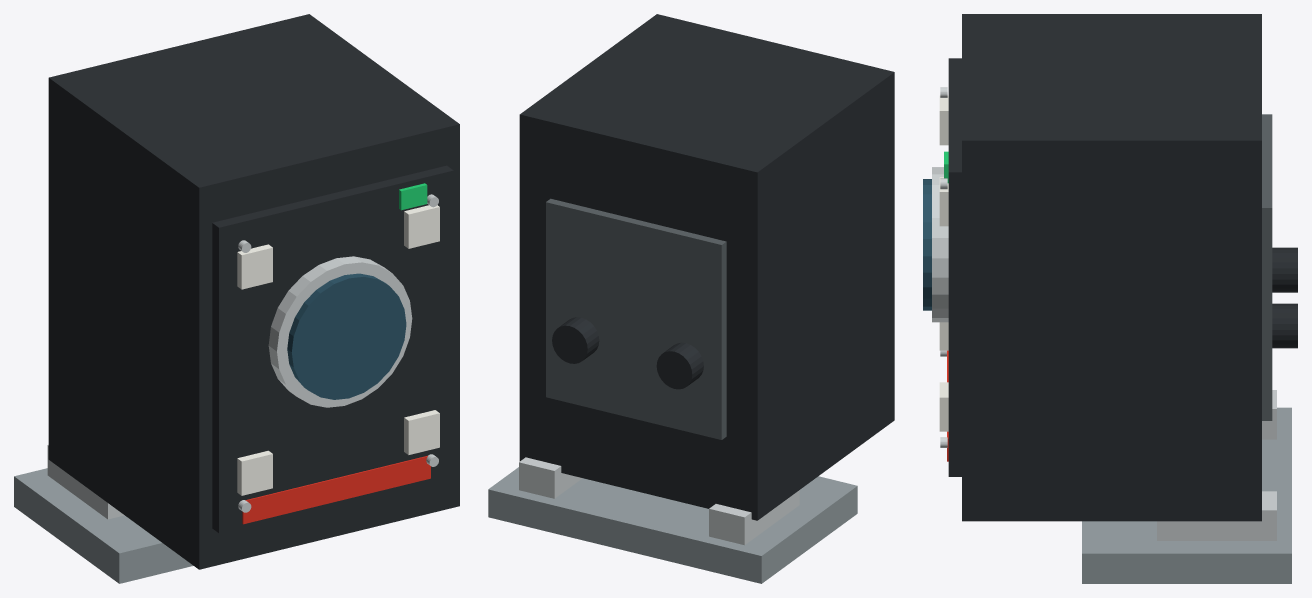
3 views of the same model, side by side, from view 1: azimuth 30°, elevation 25°; view 2: azimuth 150°, elevation 25°; view 3: azimuth 270°, elevation 25° (orthographic). The views are drawn at different scales.
Visible parts, largest first — view 1: housing, front bezel, optical lens, Mount bracket, lens surround, red identification stripe, illumination emitter, illumination emitter.002, illumination emitter.003, illumination emitter.001, mounting flange, status indicator; view 2: housing, Rear connector plate, Mount bracket, mounting flange, mounting flange.001, Electrical connector.001, Electrical connector; view 3: housing, Mount bracket, front bezel, Rear connector plate, mounting flange.001, lens surround, Electrical connector, Electrical connector.001, optical lens, illumination emitter.002, illumination emitter.001.
Part boxes in pixels (left/top/right/bottom): housing: left=48, top=14, right=459, bottom=569; front bezel: left=212, top=165, right=453, bottom=533; optical lens: left=287, top=273, right=406, bottom=399; Mount bracket: left=14, top=468, right=193, bottom=583; lens surround: left=268, top=256, right=412, bottom=407; red identification stripe: left=242, top=455, right=430, bottom=524; illumination emitter: left=237, top=450, right=272, bottom=495; illumination emitter.002: left=404, top=410, right=439, bottom=454; illumination emitter.003: left=404, top=205, right=439, bottom=248; illumination emitter.001: left=237, top=244, right=272, bottom=289; mounting flange: left=47, top=444, right=124, bottom=519; status indicator: left=399, top=183, right=427, bottom=210; housing: left=519, top=14, right=894, bottom=520; Rear connector plate: left=546, top=198, right=726, bottom=439; Mount bracket: left=488, top=467, right=857, bottom=583; mounting flange: left=709, top=490, right=799, bottom=545; mounting flange.001: left=519, top=457, right=582, bottom=498; Electrical connector.001: left=552, top=317, right=599, bottom=363; Electrical connector: left=656, top=342, right=703, bottom=389; housing: left=962, top=14, right=1261, bottom=521; Mount bracket: left=1082, top=407, right=1291, bottom=583; front bezel: left=948, top=58, right=961, bottom=476; Rear connector plate: left=1262, top=114, right=1272, bottom=420; mounting flange.001: left=1157, top=491, right=1276, bottom=540; lens surround: left=932, top=167, right=948, bottom=322; Electrical connector: left=1272, top=247, right=1297, bottom=292; Electrical connector.001: left=1272, top=303, right=1297, bottom=348; optical lens: left=923, top=179, right=931, bottom=310; illumination emitter.002: left=939, top=382, right=948, bottom=431; illumination emitter.001: left=939, top=95, right=948, bottom=145.
Size of the model in its own units: 0.0575 by 0.0798 by 0.0625.
